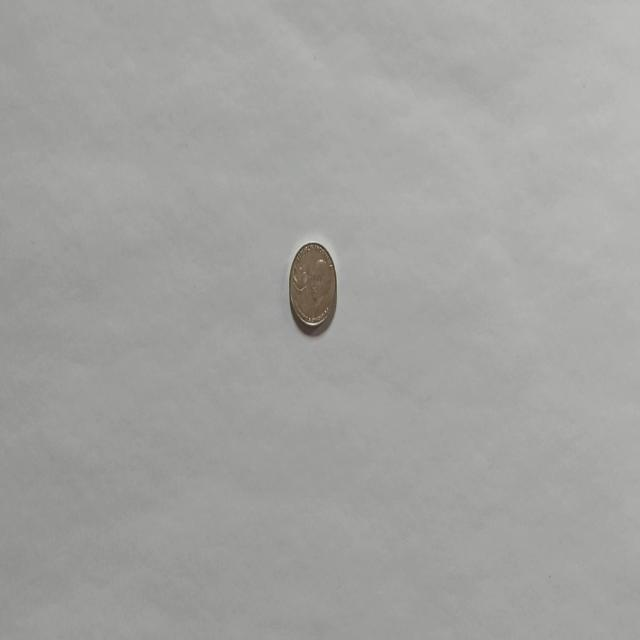lima ratus rupiah: (287, 239, 337, 333)
